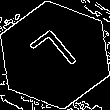L_SE: (25, 25, 85, 85)
